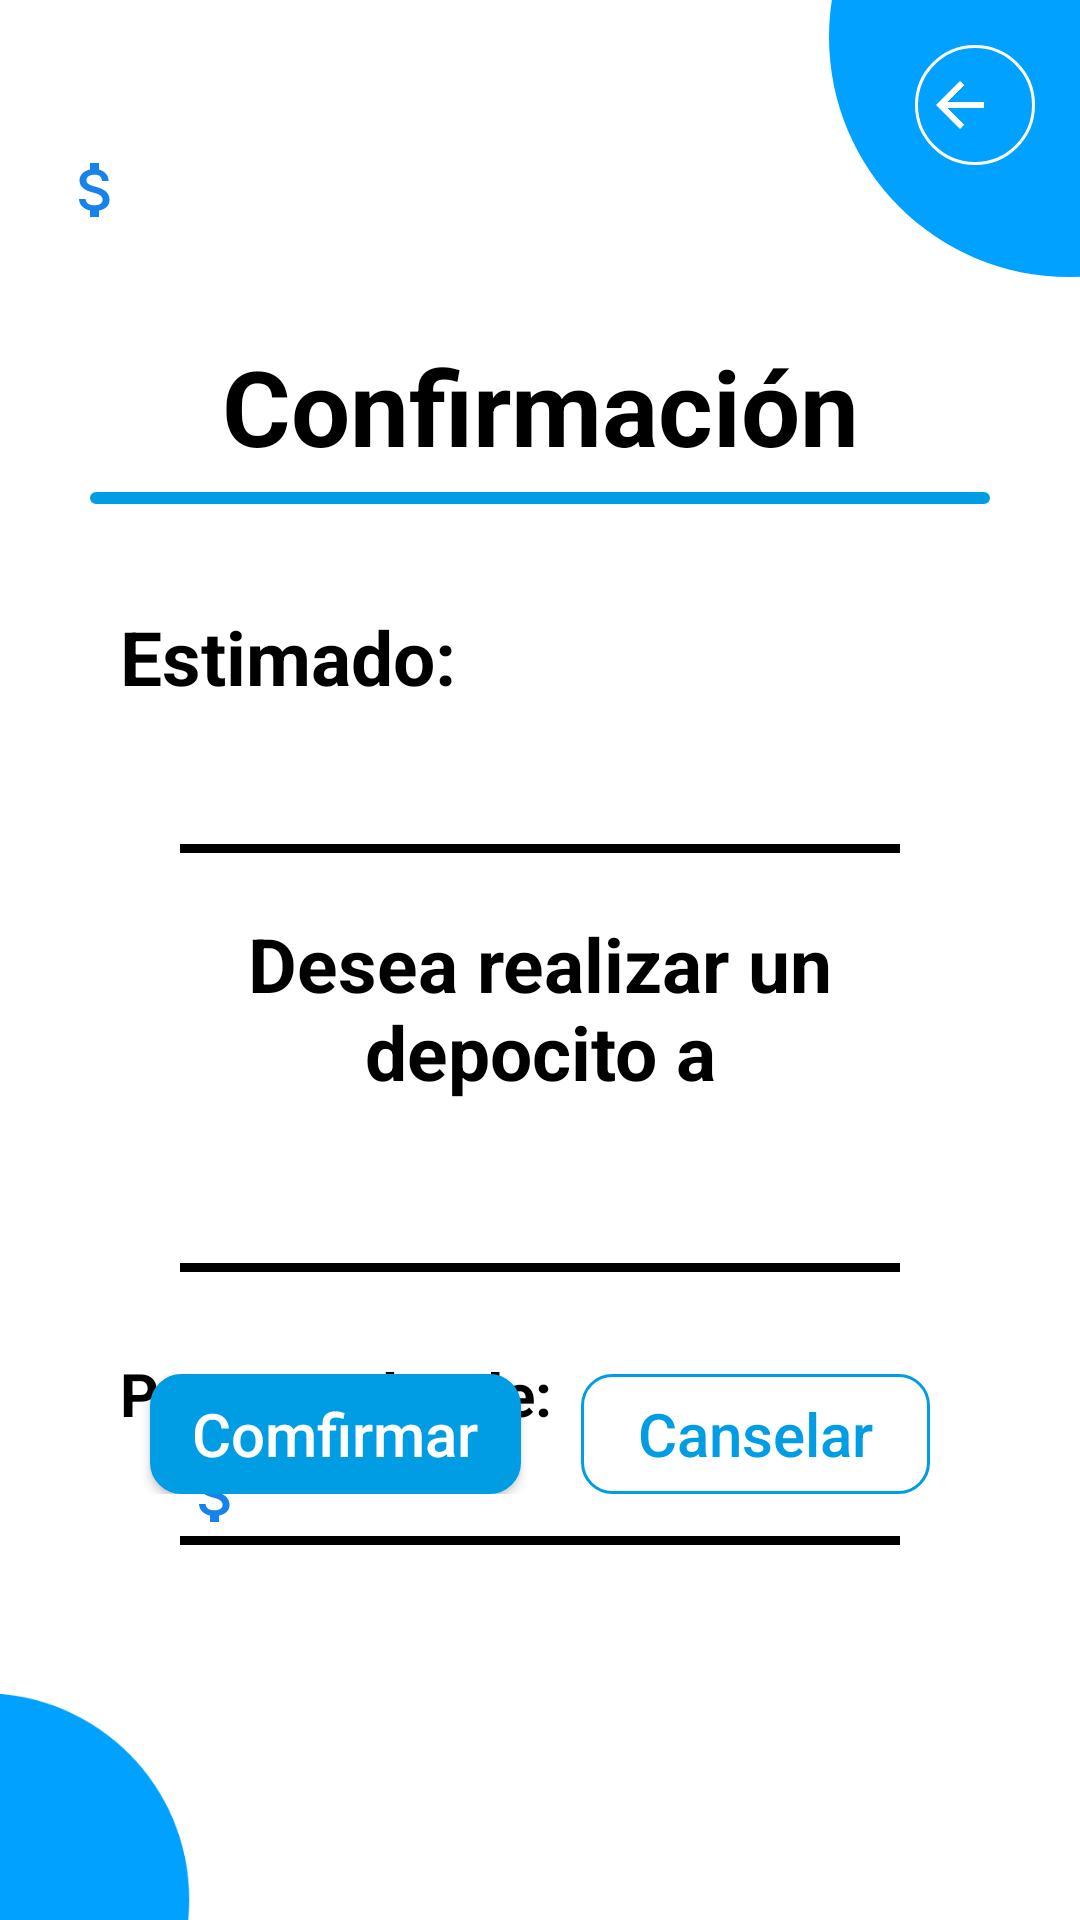

Screen size 1080×1920. Icon name, then its center in pixels as point (x, y):
back: point (975, 105)
